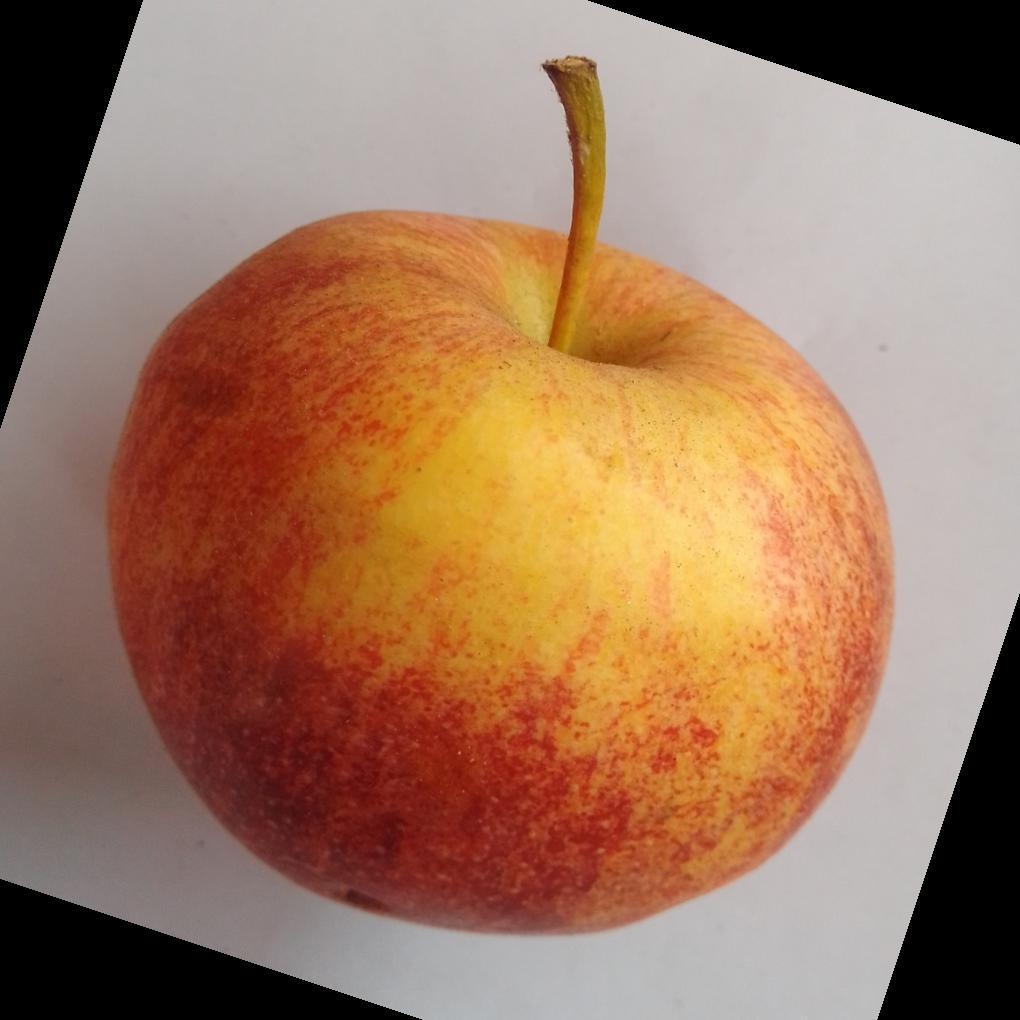FreshGuava: (103, 57, 897, 941)
